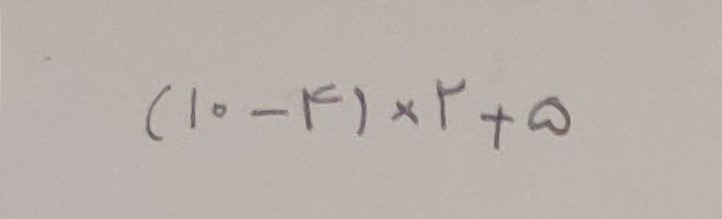character: (191, 87, 245, 139), (302, 83, 343, 130), (528, 97, 572, 140), (436, 78, 467, 133), (481, 104, 515, 149), (146, 85, 165, 144), (391, 100, 418, 127), (353, 86, 367, 137), (250, 110, 292, 125), (212, 103, 226, 120)
